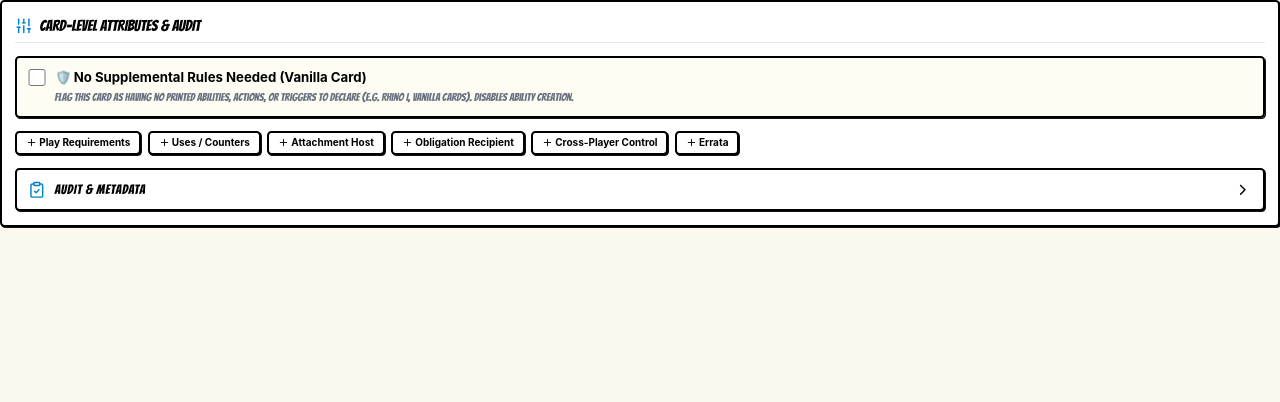
Test: CardAttributesSection card-level chip bar › adding the attachTo chip writes its default value and renders its form
Click the button with test id "card-chip-add-attachTo" at (326, 143), box left=267, top=131, right=385, bottom=155
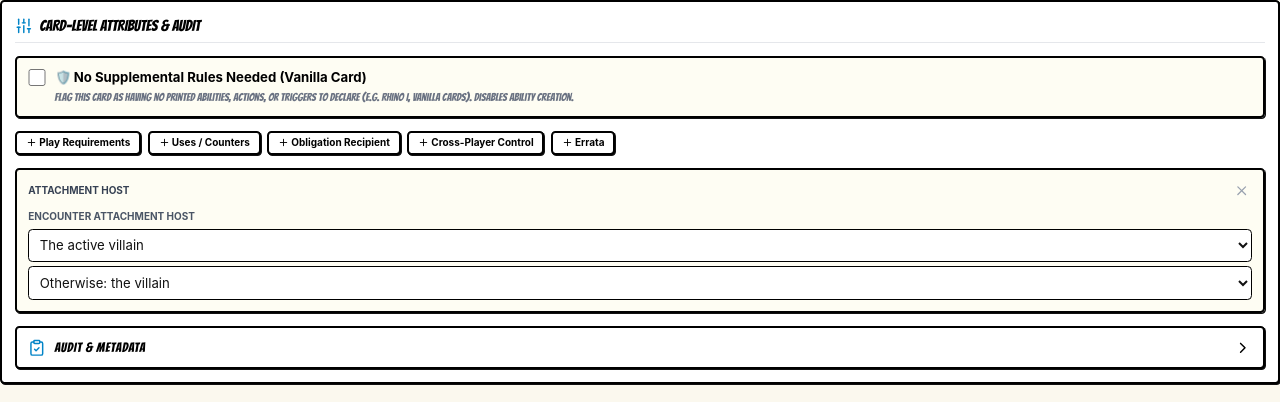
Check: the button with test id "card-chip-add-attachTo" is gone
